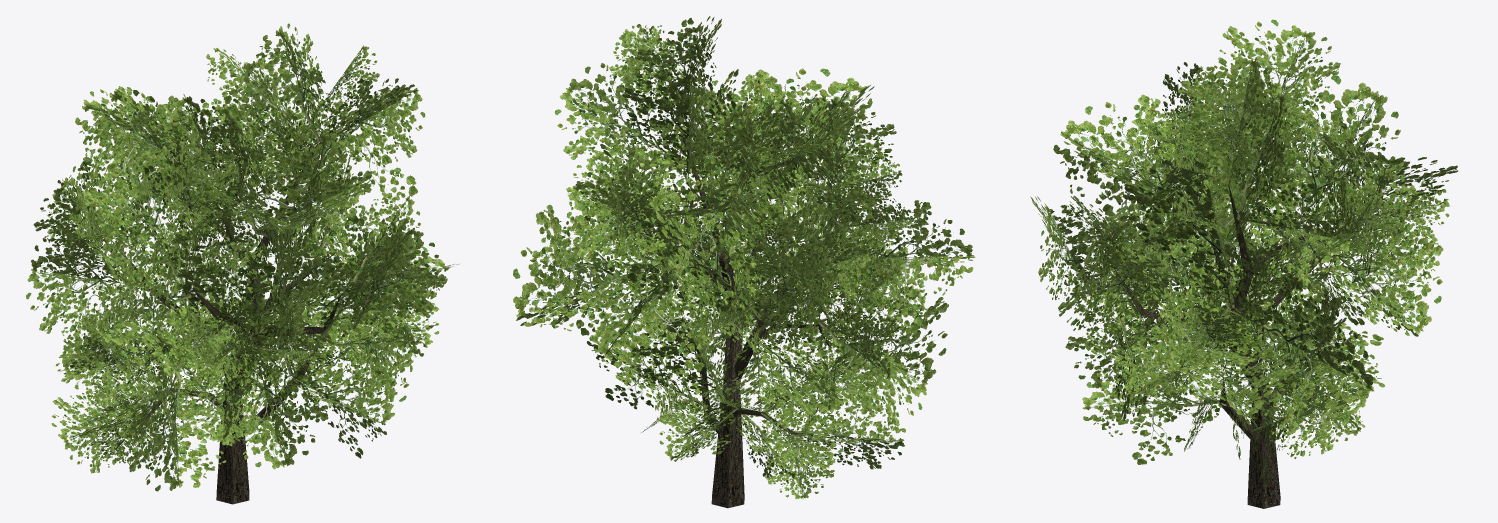
The model's file is tree_h.FBX.
The picture shows the model from 3 angles, left to right: view 1: azimuth 30°, elevation 25°; view 2: azimuth 150°, elevation 25°; view 3: azimuth 270°, elevation 25°; orthographic projection.
Visible parts, largest first — view 1: tree_h; view 2: tree_h; view 3: tree_h.
Boxes of the visible parts, bbox=[...] form: tree_h: bbox=[26, 23, 459, 504]; tree_h: bbox=[513, 16, 975, 508]; tree_h: bbox=[1030, 19, 1457, 508].
Size of the model in its own units: 15.76 by 16.57 by 14.45.
Materials: 2 (2 with a texture image).
